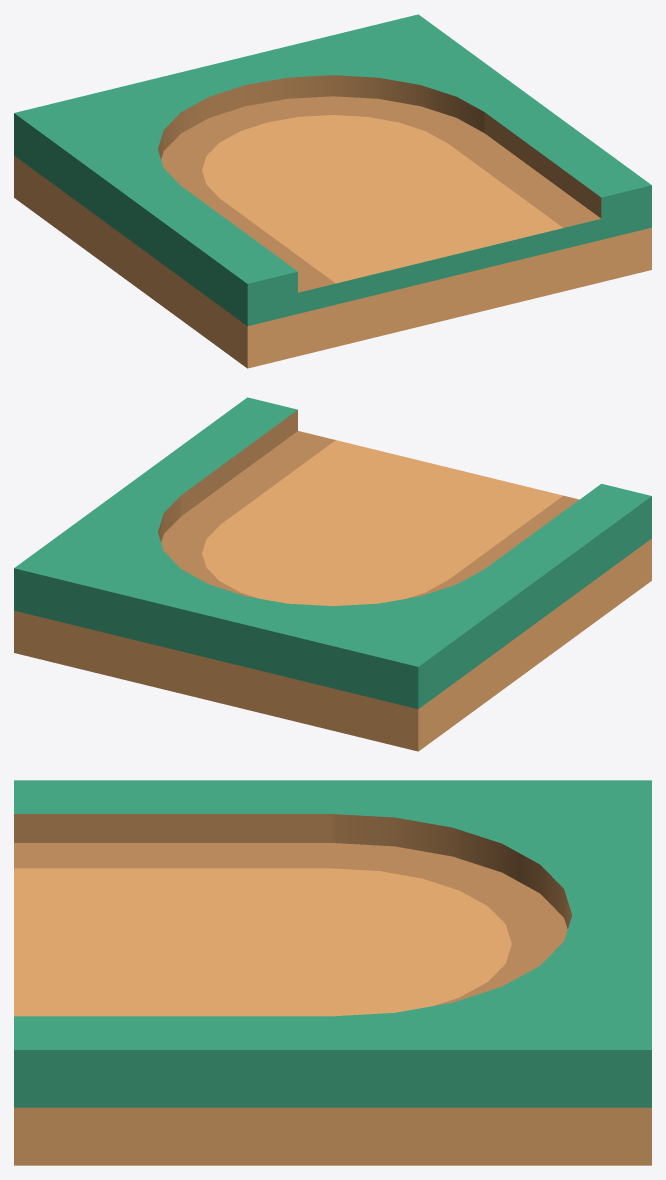
File: tile_endRound.fbx
3 views of the same model, one above another, from view 1: azimuth 30°, elevation 25°; view 2: azimuth 150°, elevation 25°; view 3: azimuth 270°, elevation 25° (orthographic). The views are drawn at different scales.
Visible parts, largest first — view 1: tile_endRound; view 2: tile_endRound; view 3: tile_endRound.
Part boxes in pixels (bbox=[...]): tile_endRound: bbox=[14, 14, 651, 368]; tile_endRound: bbox=[14, 397, 651, 751]; tile_endRound: bbox=[14, 780, 651, 1165].
Size of the model in its own units: 10 by 2 by 10.
